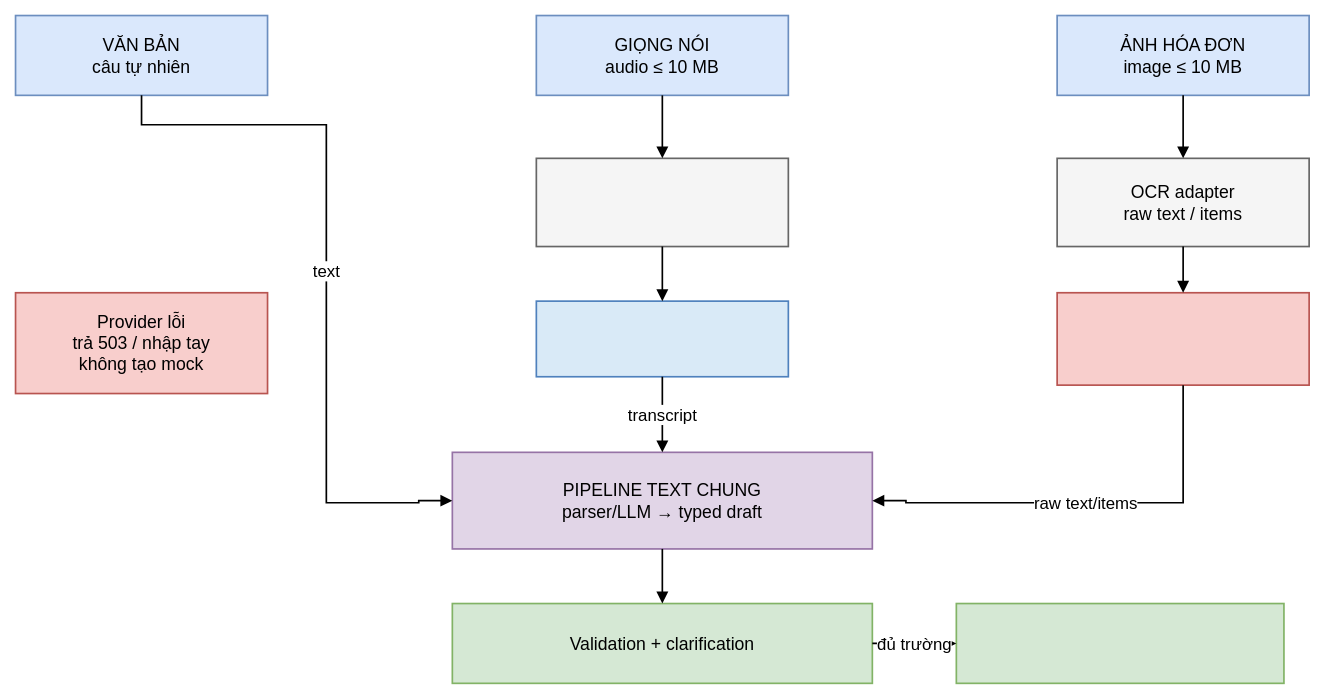
Image size: 1324x698. Some labels were removed from this diagram. Each missing label, with the centre of its shape:
"Chọn tổng / mặt hàng chưa tự đối soát tổng" belongs at point 1183,338.
"Preview → xác nhận → DB" belongs at point 1119,643.
"STT adapter raw transcript" belongs at point 662,202.
"Xác nhận transcript" belongs at point 662,338.
